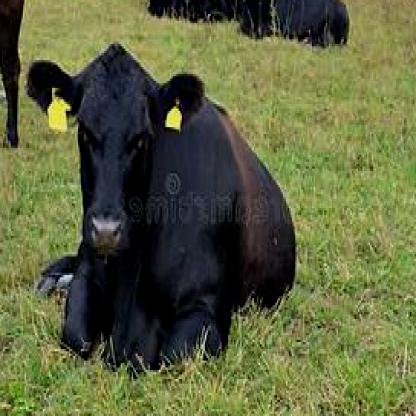cow: (25, 42, 296, 365), (240, 0, 349, 51), (185, 0, 243, 28), (132, 0, 196, 21)
